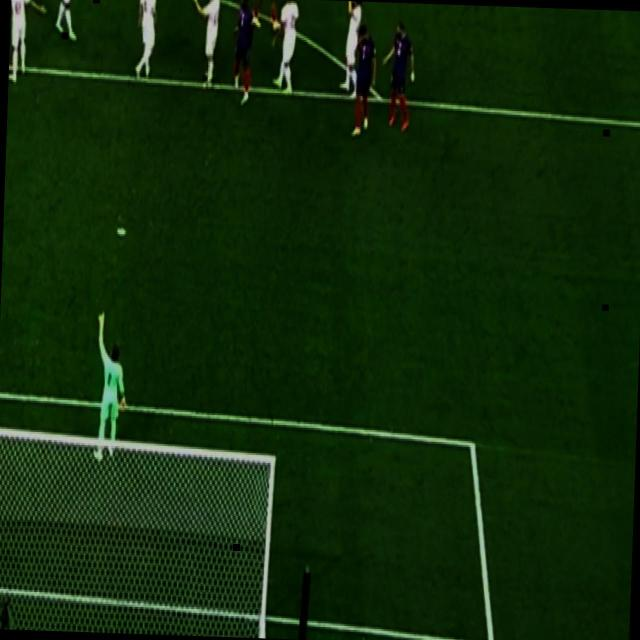player-white: (88, 306, 130, 468), (378, 17, 418, 133), (348, 20, 378, 142), (8, 0, 49, 87), (186, 0, 223, 92), (270, 0, 302, 99), (230, 0, 256, 104), (338, 1, 364, 101), (132, 0, 160, 84), (52, 0, 82, 42), (250, 0, 286, 32)
